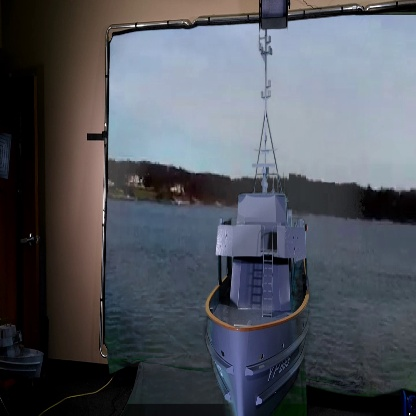YP689: (205, 33, 312, 416)
